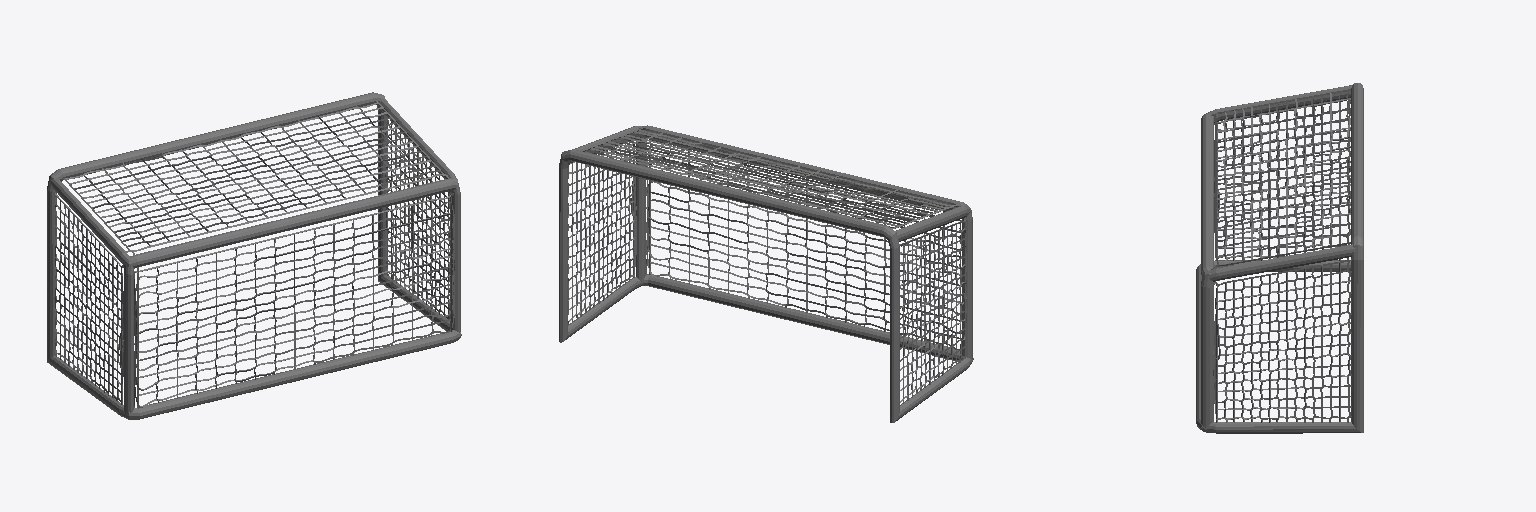
Rendered from bramkahp.obj.
The picture shows the model from 3 angles: view 1: azimuth 30°, elevation 25°; view 2: azimuth 150°, elevation 25°; view 3: azimuth 270°, elevation 25°; orthographic projection.
Parts seen in each view (by area): view 1: Shape003, Shape001, Shape002; view 2: Shape003, Shape001, Shape002; view 3: Shape003, Shape001, Shape002.
Boxes of the visible parts, x1,y1,x2,y2 form: Shape003: [54, 101, 454, 408]; Shape001: [47, 92, 461, 419]; Shape002: [51, 98, 460, 416]; Shape003: [568, 128, 966, 403]; Shape001: [559, 149, 973, 422]; Shape002: [567, 125, 972, 361]; Shape003: [1201, 89, 1351, 422]; Shape001: [1196, 83, 1363, 433]; Shape002: [1201, 85, 1355, 429].
Size of the model in its own units: 45.34 by 24.7 by 19.41.